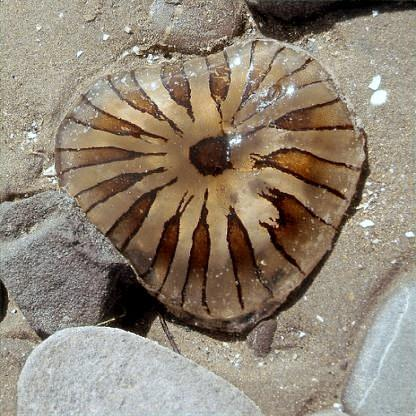Moon: (49, 29, 371, 333)
